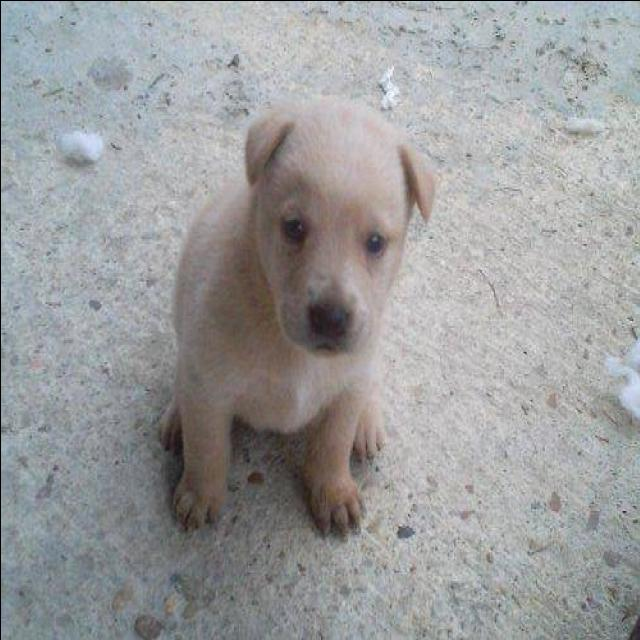dog: (138, 83, 446, 539)
